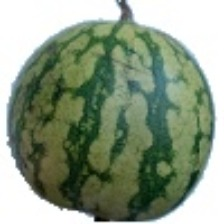watermelon: (9, 45, 185, 207)
